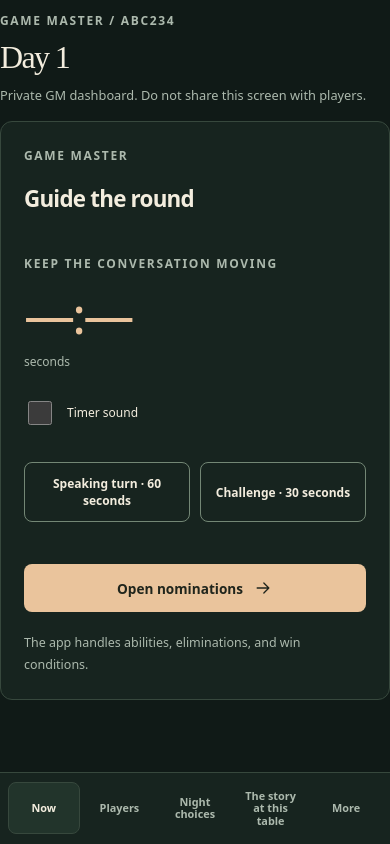
Scenario: opens the Game Master's private action list and table controls on demand
The width and height of the screenshot is (390, 844).
Click the button "Night choices". click: (195, 808)
box: [159, 782, 231, 834]
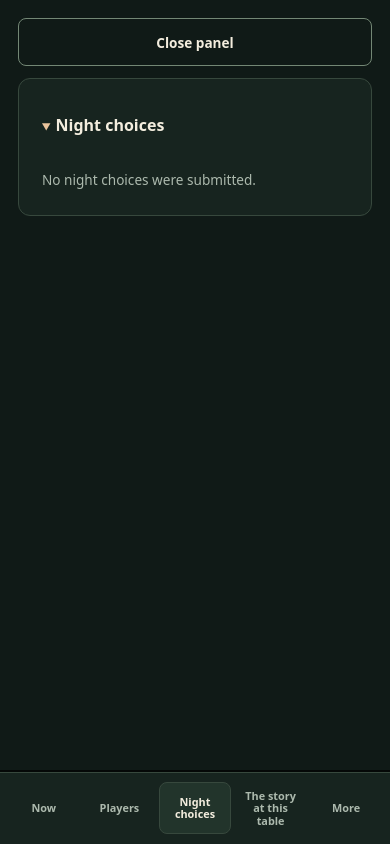
Result: the text "No night choices were submitted." is shown at [42, 170, 256, 189]
Click the button "More". click: (346, 808)
box: [310, 782, 382, 834]
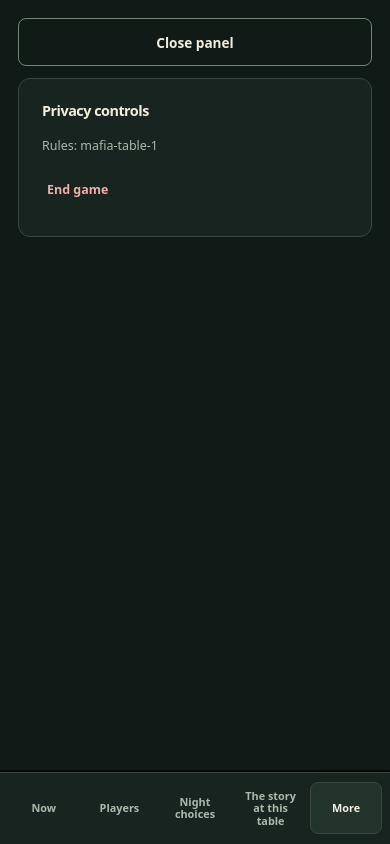
Result: the heading "Privacy controls" is shown at [42, 101, 149, 120]
